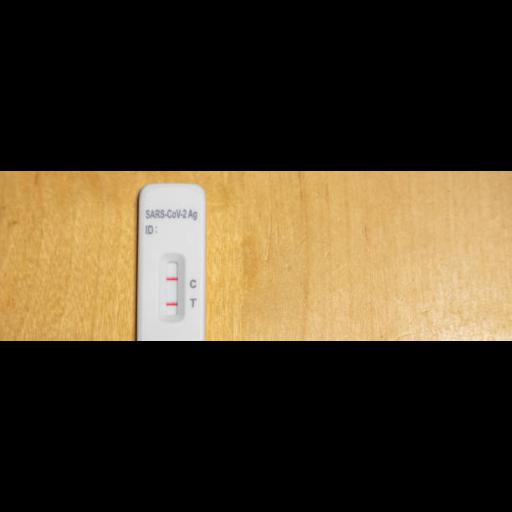Pos: (138, 182, 204, 340)
